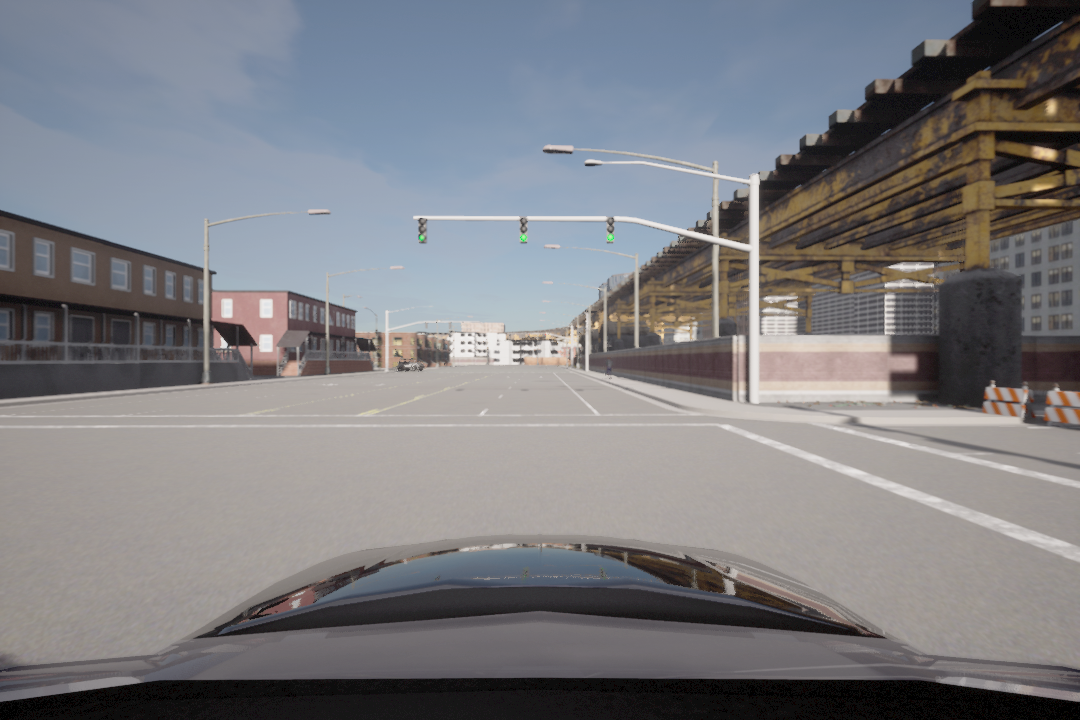TrafficLight: (604, 213, 619, 249), (414, 214, 431, 244), (514, 214, 527, 245)
